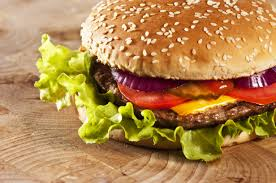hamburger: (77, 1, 276, 152)
